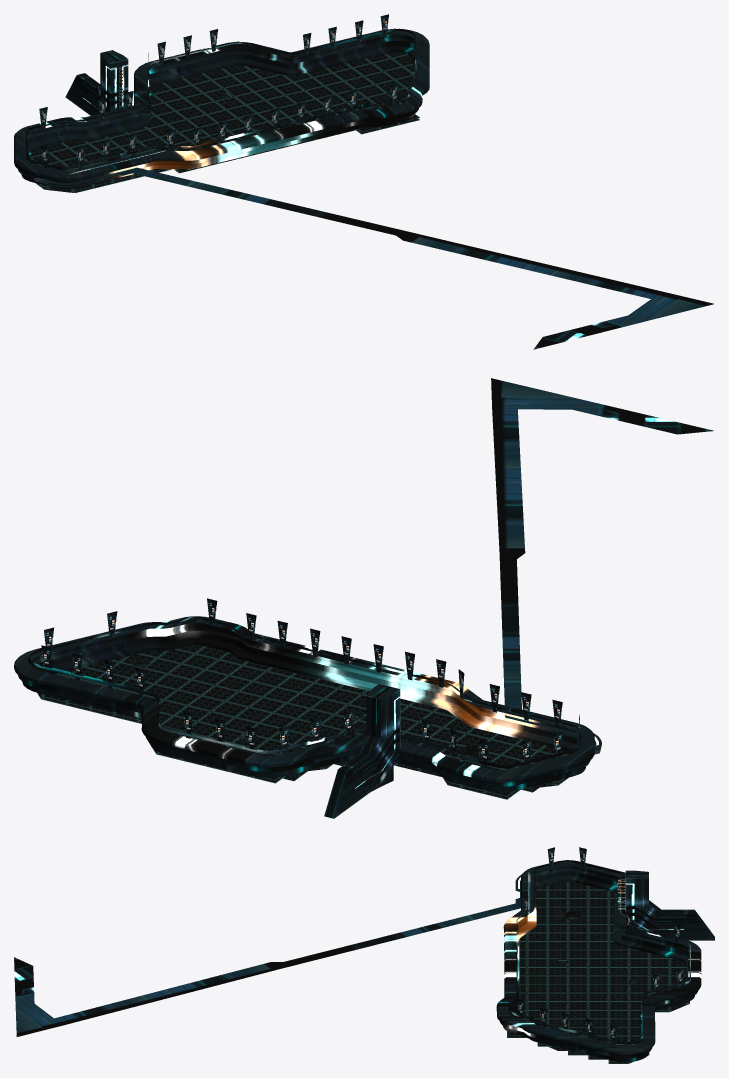
Rendered from arena.glb.
3 views of the same model, one above another, from view 1: azimuth 30°, elevation 25°; view 2: azimuth 150°, elevation 25°; view 3: azimuth 270°, elevation 25° (orthographic). The views are drawn at different scales.
Parts seen in each view (by area): view 1: light_cycle_arena1, light, polySurface1 #4851, ref_tron_gridfloor.smd.027, ref_tron_gridfloor.smd.033, ref_tron_gridfloor.smd.036, ref_tron_gridfloor.smd.035, ref_tron_gridfloor.smd.034, ref_tron_gridfloor.smd.022, ref_tron_gridfloor.smd.030, ref_tron_gridfloor.smd.024, ref_tron_gridfloor.smd.014 (+1 smaller); view 2: light_cycle_arena1, light, polySurface1 #4851, ref_tron_gridfloor.smd.033, ref_tron_gridfloor.smd.026, ref_tron_gridfloor.smd.036, ref_tron_gridfloor.smd.032, ref_tron_gridfloor.smd.027, ref_tron_gridfloor.smd.037, ref_tron_gridfloor.smd.025, ref_tron_gridfloor.smd.021, ref_tron_gridfloor.smd.030 (+1 smaller); view 3: light_cycle_arena1, polySurface1 #4851, ref_tron_gridfloor.smd.033, ref_tron_gridfloor.smd.036, light, ref_tron_gridfloor.smd.022, ref_tron_gridfloor.smd.027, ref_tron_gridfloor.smd.035, ref_tron_gridfloor.smd.037, ref_tron_gridfloor.smd.021, ref_tron_gridfloor.smd.032, ref_tron_gridfloor.smd.024 (+5 smaller).
Part boxes in pixels (bbox=[...]): light_cycle_arena1: bbox=[14, 28, 713, 349]; light: bbox=[39, 14, 415, 168]; polySurface1 #4851: bbox=[65, 50, 128, 115]; ref_tron_gridfloor.smd.027: bbox=[293, 68, 385, 106]; ref_tron_gridfloor.smd.033: bbox=[235, 82, 325, 121]; ref_tron_gridfloor.smd.036: bbox=[176, 96, 267, 135]; ref_tron_gridfloor.smd.035: bbox=[151, 73, 228, 110]; ref_tron_gridfloor.smd.034: bbox=[203, 65, 292, 96]; ref_tron_gridfloor.smd.022: bbox=[126, 111, 208, 150]; ref_tron_gridfloor.smd.030: bbox=[353, 54, 412, 92]; ref_tron_gridfloor.smd.024: bbox=[62, 132, 150, 164]; ref_tron_gridfloor.smd.014: bbox=[31, 142, 91, 170]; light_cycle_arena1: bbox=[14, 378, 713, 792]; light: bbox=[41, 598, 579, 767]; polySurface1 #4851: bbox=[324, 684, 400, 818]; ref_tron_gridfloor.smd.033: bbox=[174, 685, 285, 732]; ref_tron_gridfloor.smd.026: bbox=[144, 645, 247, 685]; ref_tron_gridfloor.smd.036: bbox=[245, 703, 357, 747]; ref_tron_gridfloor.smd.032: bbox=[215, 661, 318, 702]; ref_tron_gridfloor.smd.027: bbox=[115, 668, 214, 715]; ref_tron_gridfloor.smd.037: bbox=[287, 679, 369, 716]; ref_tron_gridfloor.smd.025: bbox=[429, 718, 521, 754]; ref_tron_gridfloor.smd.021: bbox=[358, 698, 456, 736]; ref_tron_gridfloor.smd.030: bbox=[55, 660, 143, 689]; light_cycle_arena1: bbox=[14, 860, 701, 1062]; polySurface1 #4851: bbox=[625, 870, 714, 940]; ref_tron_gridfloor.smd.033: bbox=[568, 984, 628, 1010]; ref_tron_gridfloor.smd.036: bbox=[568, 958, 628, 984]; light: bbox=[517, 847, 684, 1044]; ref_tron_gridfloor.smd.022: bbox=[568, 933, 628, 958]; ref_tron_gridfloor.smd.027: bbox=[568, 1010, 628, 1035]; ref_tron_gridfloor.smd.035: bbox=[629, 958, 686, 984]; ref_tron_gridfloor.smd.037: bbox=[519, 958, 567, 984]; ref_tron_gridfloor.smd.021: bbox=[519, 933, 567, 958]; ref_tron_gridfloor.smd.032: bbox=[519, 984, 567, 1010]; ref_tron_gridfloor.smd.024: bbox=[568, 907, 615, 932].
Bounding box in the file's own units: 96.05 × 14.98 × 148.
45 materials, 45 textured.
